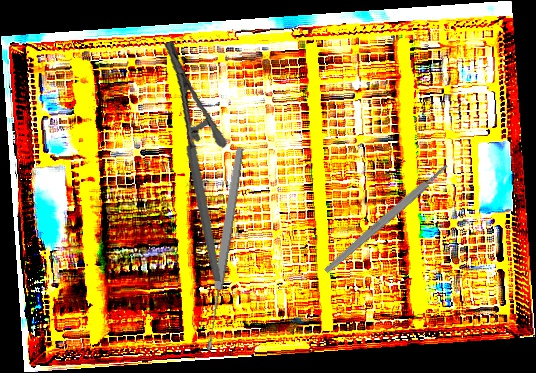Needle Holder: (131, 40, 254, 282)
Scalpel Handle: (322, 162, 451, 275)
Surgical Spoon: (201, 146, 247, 352)
